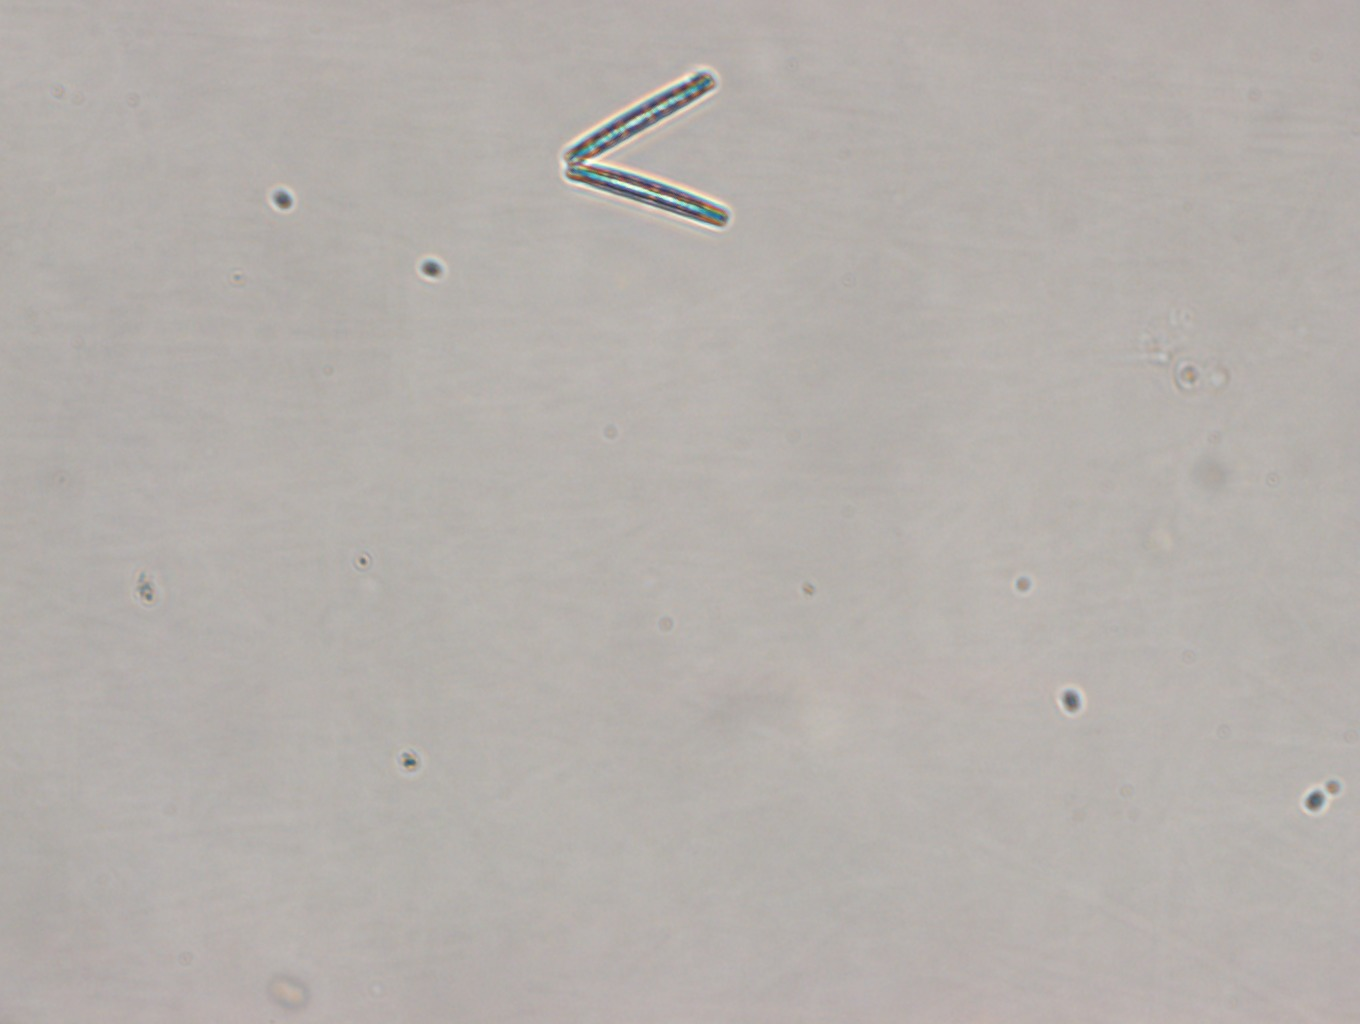thalassionema nitzschioides: (561, 66, 731, 231)
